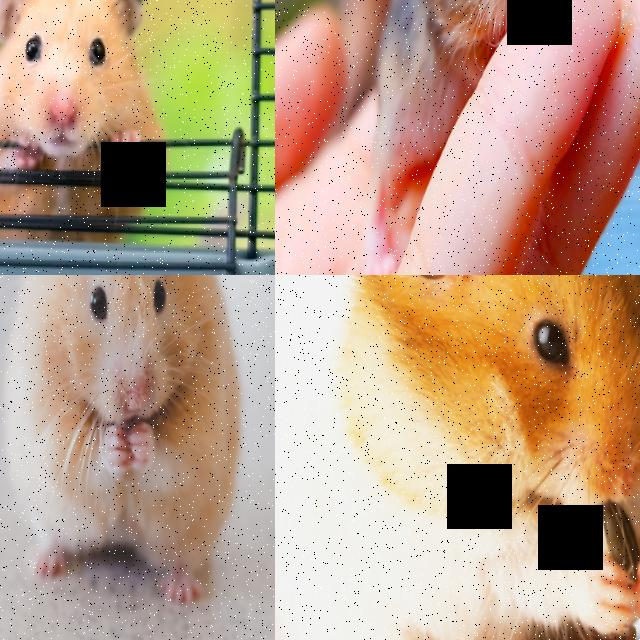hamster: (275, 275, 640, 640), (1, 275, 247, 607), (366, 0, 572, 275), (0, 0, 173, 242)
